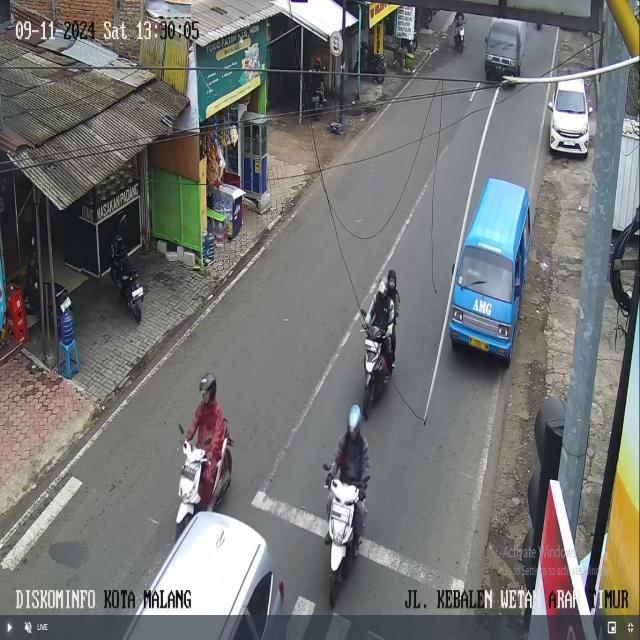Helmet: (199, 373, 216, 397), (348, 405, 361, 432), (377, 280, 387, 299), (387, 269, 396, 285), (315, 55, 320, 63)
Number Plate: (469, 338, 488, 351), (61, 297, 70, 311), (132, 287, 143, 298)
Rearview Mirror: (204, 436, 211, 445), (515, 285, 520, 297), (322, 462, 329, 470), (362, 475, 369, 483), (178, 423, 183, 433), (451, 263, 454, 275), (547, 102, 552, 109), (588, 107, 593, 114), (484, 37, 487, 42)
